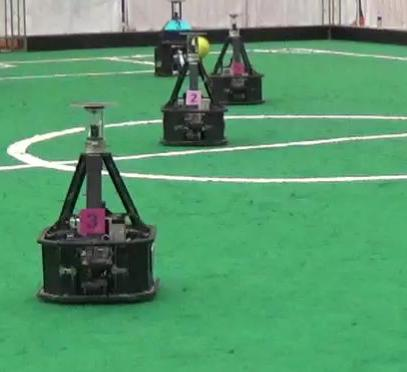robot: (34, 99, 163, 307), (160, 30, 228, 147), (205, 10, 271, 105), (150, 1, 205, 81)
